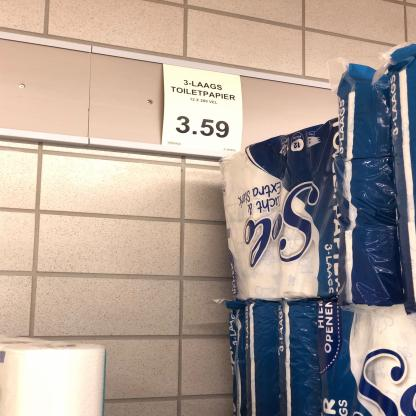prtg: (163, 64, 241, 154)
